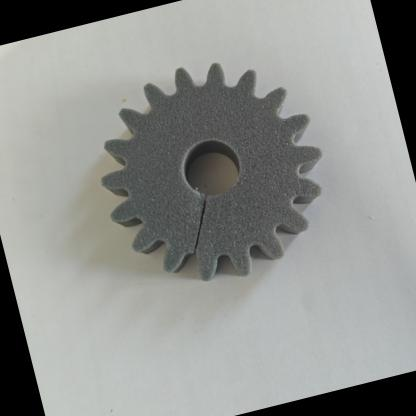defect: (123, 171, 263, 286)
gear: (48, 22, 360, 325)
